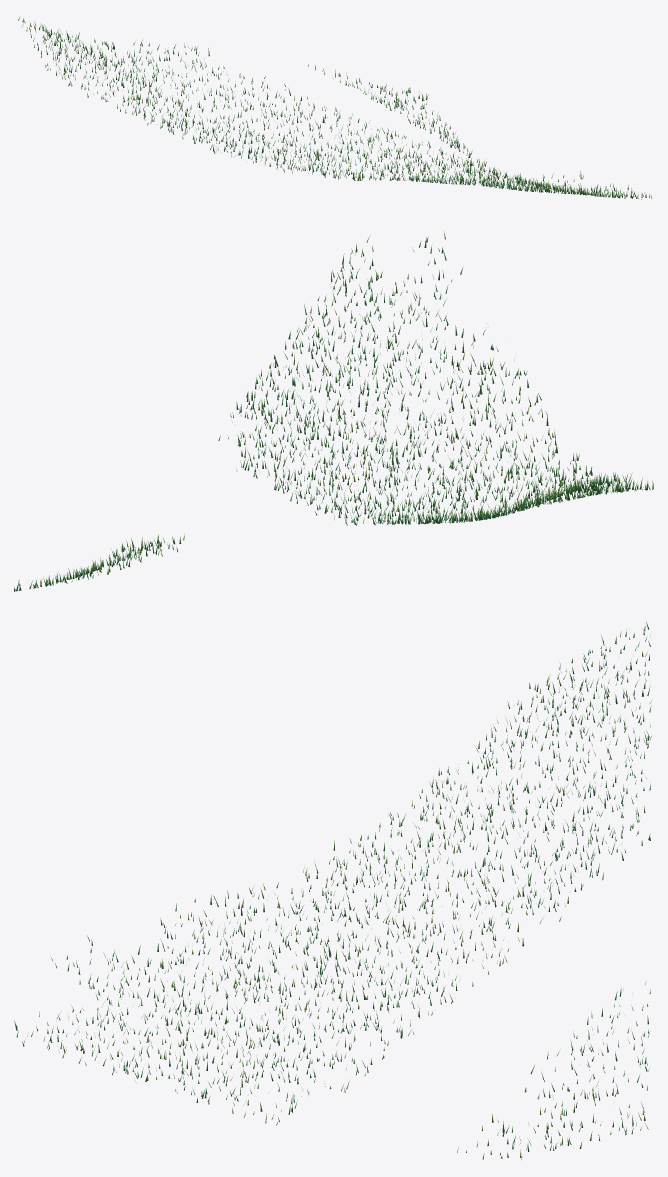
3 views of the same model, one above another, from view 1: azimuth 30°, elevation 25°; view 2: azimuth 150°, elevation 25°; view 3: azimuth 270°, elevation 25° (orthographic). The views are drawn at different scales.
Parts seen in each view (by area): view 1: gc_36; view 2: gc_36; view 3: gc_36.
Part boxes in pixels (left/top/right/bottom): gc_36: left=18, top=16, right=651, bottom=199; gc_36: left=14, top=231, right=653, bottom=591; gc_36: left=14, top=621, right=652, bottom=1159.
Size of the model in its own units: 18.19 by 8.57 by 18.13.
Materials: 1 (1 with a texture image).
